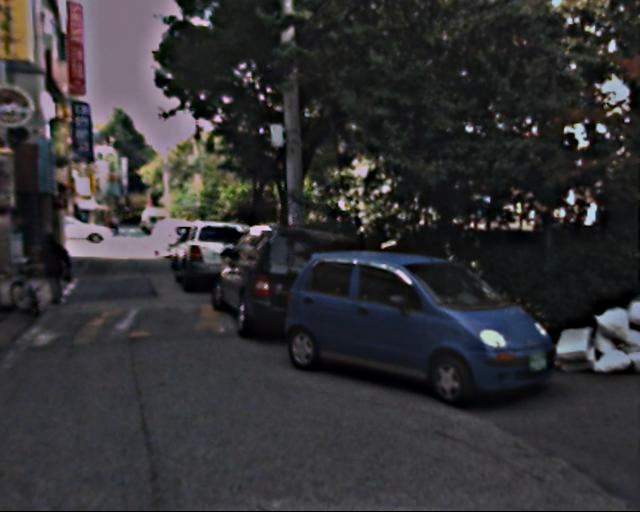person: (41, 225, 76, 304)
